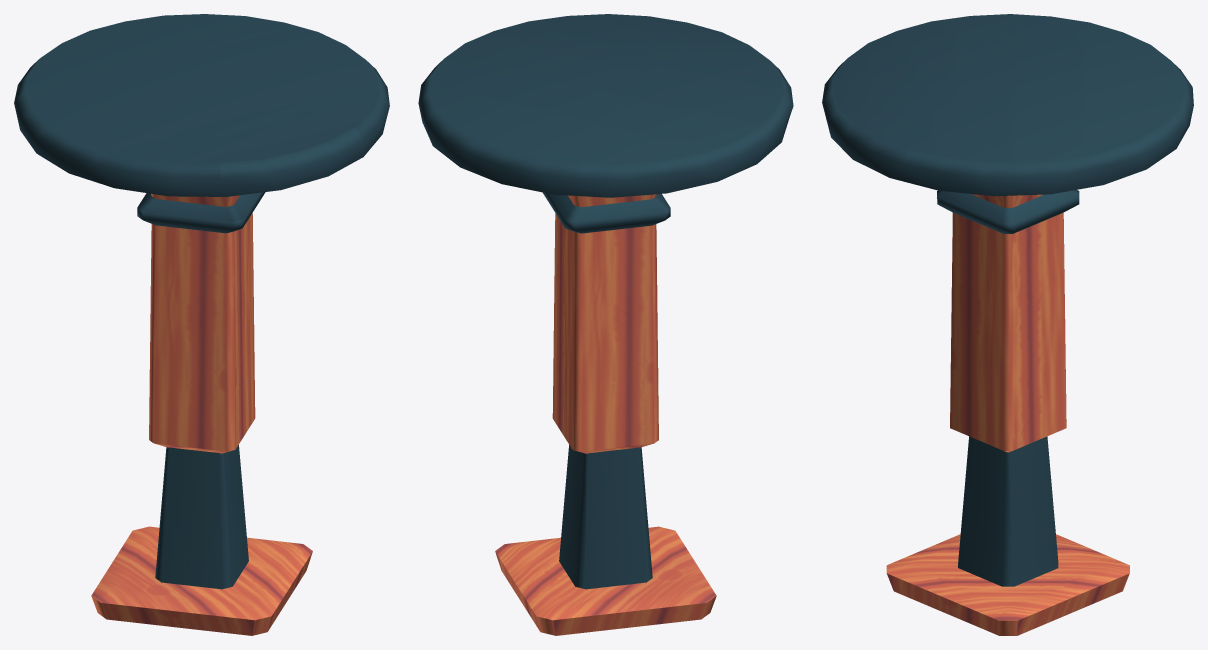
Rendered from ChairBar.fbx.
The picture shows the model from 3 angles, left to right: view 1: azimuth 30°, elevation 25°; view 2: azimuth 150°, elevation 25°; view 3: azimuth 270°, elevation 25°; orthographic projection.
Parts seen in each view (by area): view 1: ChairBar; view 2: ChairBar; view 3: ChairBar.
Boxes of the visible parts, <box> form: ChairBar: <box>14,14,389,635</box>; ChairBar: <box>418,14,793,635</box>; ChairBar: <box>822,14,1193,635</box>.
Bounding box in the file's own units: 0.4663 × 0.6901 × 0.466.
